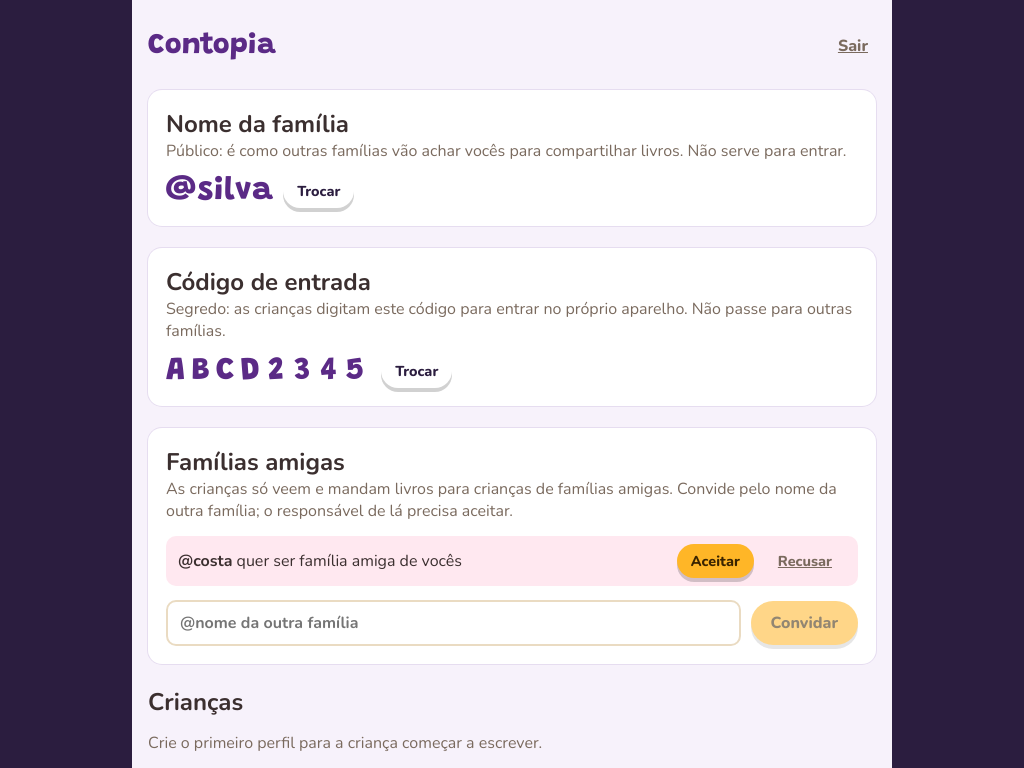
Test: famílias amigas (responsável) › convida pelo nome e aceita um convite
Expected: the text "@costa" is shown, left=178, top=550, right=232, bottom=572
Click the button "Aceitar".
click(715, 561)  # box left=677, top=544, right=754, bottom=578
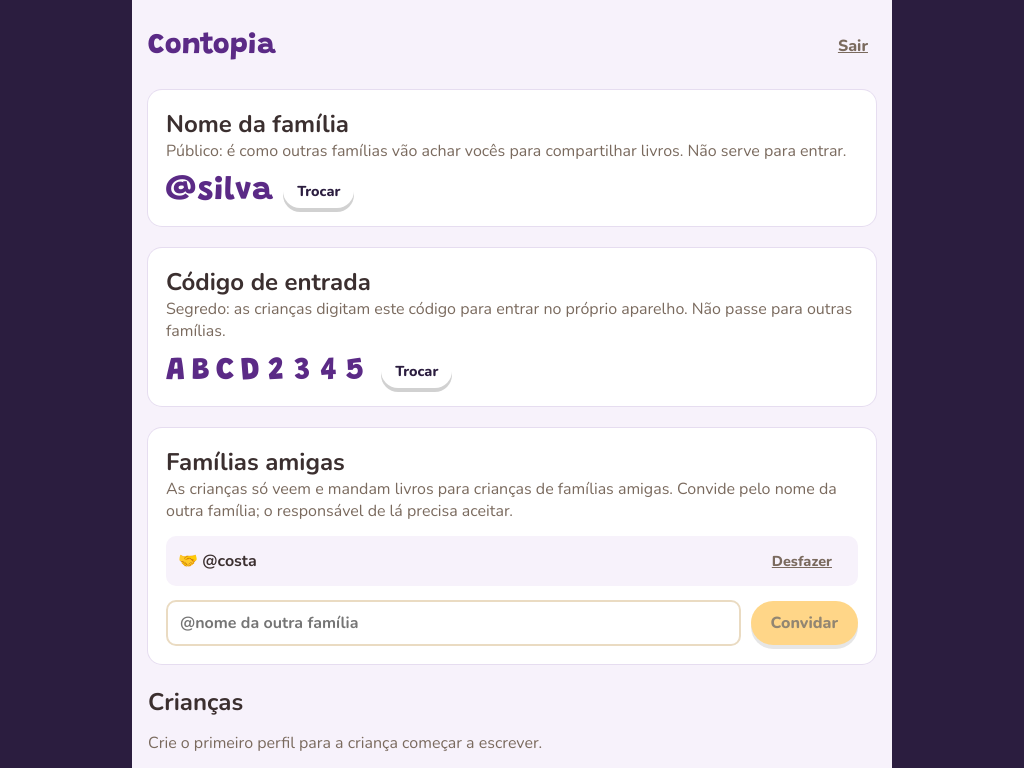
Expected: the text "🤝 @costa" is shown, left=178, top=550, right=257, bottom=572
Type "@souza" into the field labelled "nome da outra família".
click(453, 623); type("@souza")  # box left=166, top=600, right=741, bottom=646
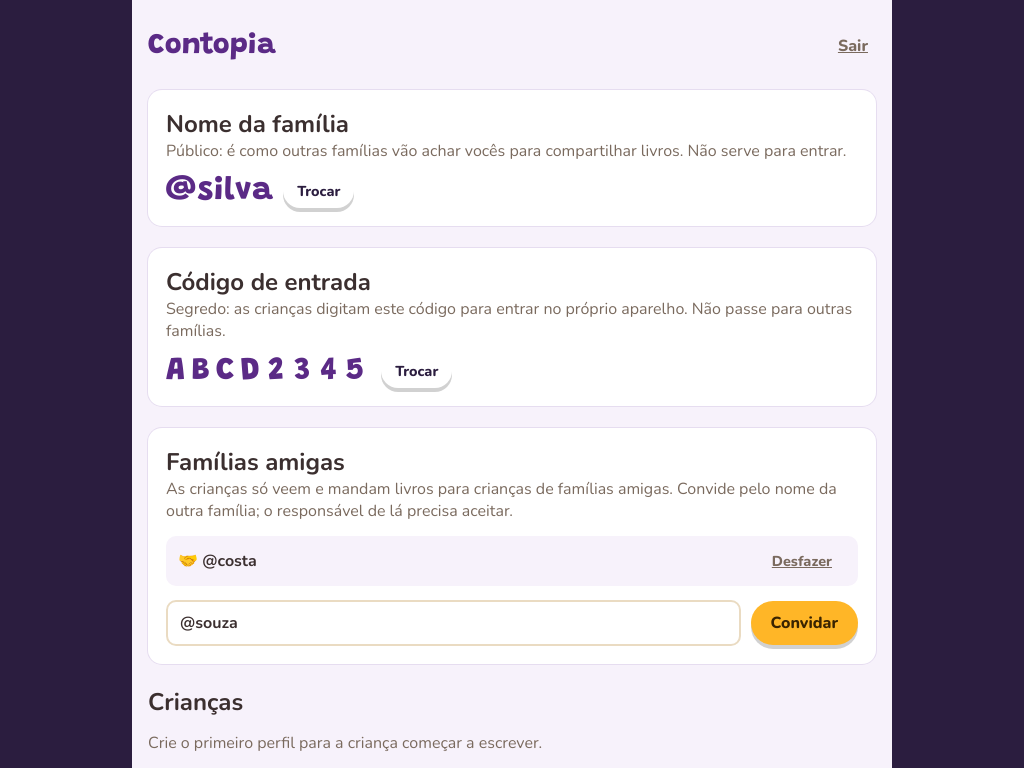
Click the button "Convidar".
click(804, 623)  # box left=751, top=601, right=858, bottom=645
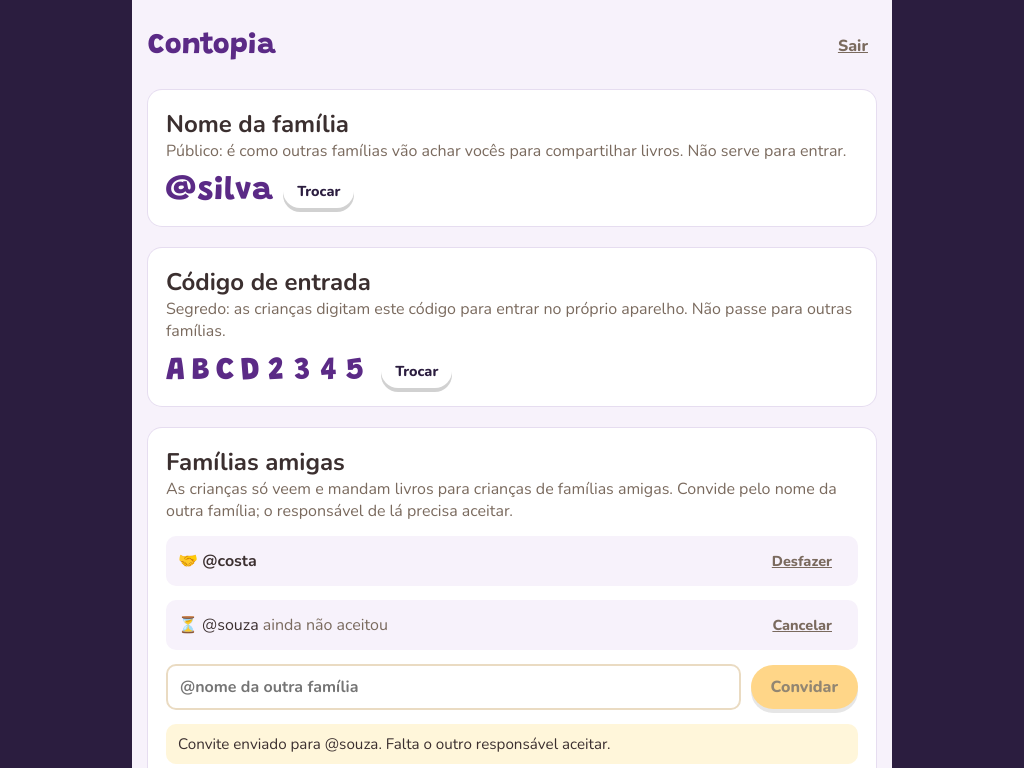
Expected: the message shows "Convite enviado para @souza", left=178, top=734, right=610, bottom=754
